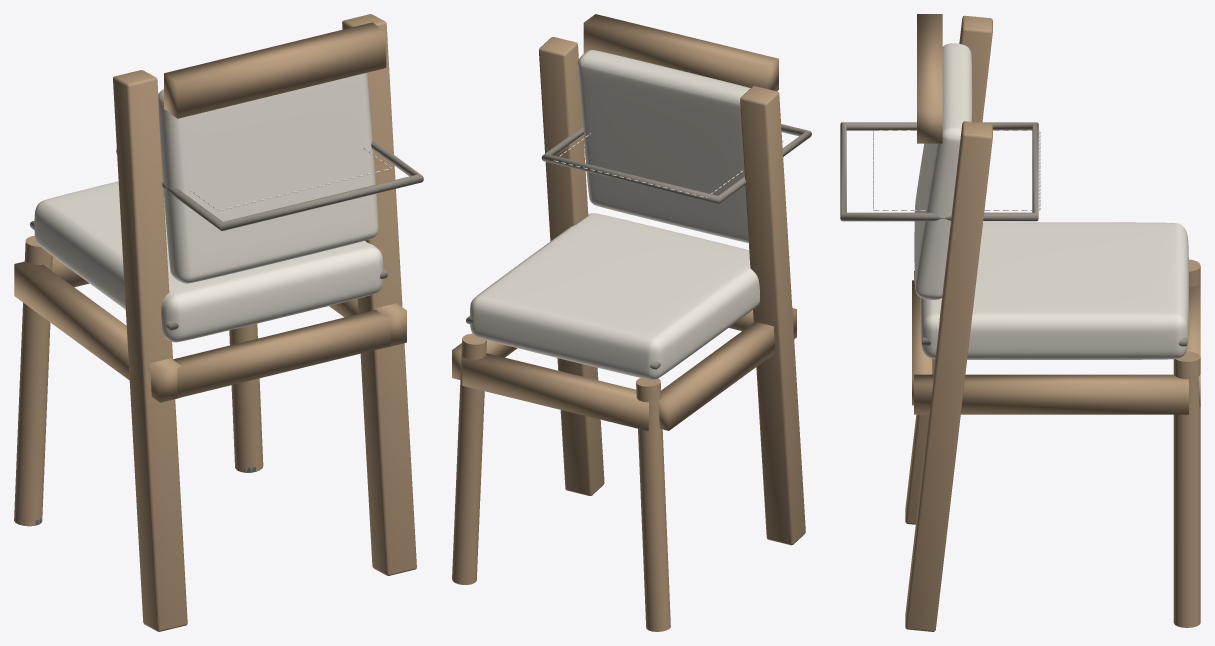
Rendered from chair.glb.
3 views of the same model, side by side, from view 1: azimuth 30°, elevation 25°; view 2: azimuth 150°, elevation 25°; view 3: azimuth 270°, elevation 25° (orthographic). The views are drawn at different scales.
Visible parts, largest first — view 1: back_pad, backpost_L, seat_cushion, backpost_R, back_top_rail, back_rail, side_rail_-1, frontleg_L, frontleg_R, back_pad_pipe, side_rail_1; view 2: seat_cushion, back_pad, backpost_L, backpost_R, back_top_rail, front_rail, frontleg_L, frontleg_R, side_rail_-1, back_pad_pipe, side_rail_1; view 3: seat_cushion, backpost_R, side_rail_1, back_pad, frontleg_R, back_pad_pipe, backpost_L, back_top_rail, back_rail, front_rail.
Boxes of the visible parts, left/top/right/bottom form: back_pad: left=158, top=72, right=378, bottom=283; backpost_L: left=113, top=70, right=187, bottom=631; seat_cushion: left=34, top=181, right=383, bottom=342; backpost_R: left=342, top=14, right=416, bottom=575; back_top_rail: left=164, top=22, right=386, bottom=118; back_rail: left=173, top=310, right=390, bottom=397; side_rail_-1: left=14, top=261, right=181, bottom=402; frontleg_L: left=14, top=235, right=53, bottom=526; frontleg_R: left=229, top=324, right=263, bottom=472; back_pad_pipe: left=116, top=139, right=423, bottom=230; side_rail_1: left=329, top=299, right=406, bottom=347; seat_cushion: left=470, top=213, right=759, bottom=379; back_pad: left=578, top=50, right=750, bottom=243; backpost_L: left=740, top=86, right=805, bottom=545; backpost_R: left=539, top=37, right=604, bottom=495; back_top_rail: left=583, top=14, right=778, bottom=91; front_rail: left=462, top=353, right=648, bottom=430; frontleg_L: left=636, top=378, right=670, bottom=631; frontleg_R: left=452, top=333, right=486, bottom=584; side_rail_-1: left=658, top=308, right=796, bottom=430; back_pad_pipe: left=541, top=124, right=811, bottom=203; side_rail_1: left=452, top=340, right=517, bottom=379; seat_cushion: left=920, top=222, right=1188, bottom=359; backpost_R: left=905, top=121, right=992, bottom=631; side_rail_1: left=914, top=374, right=1188, bottom=414; back_pad: left=914, top=43, right=972, bottom=299; frontleg_R: left=1173, top=351, right=1200, bottom=627; back_pad_pipe: left=840, top=122, right=1038, bottom=221; backpost_L: left=905, top=15, right=992, bottom=524; back_top_rail: left=917, top=14, right=942, bottom=143; back_rail: left=912, top=280, right=932, bottom=405; front_rail: left=1186, top=282, right=1200, bottom=406.
Bounding box in the file's own units: 0.442 × 0.8811 × 0.5629.
